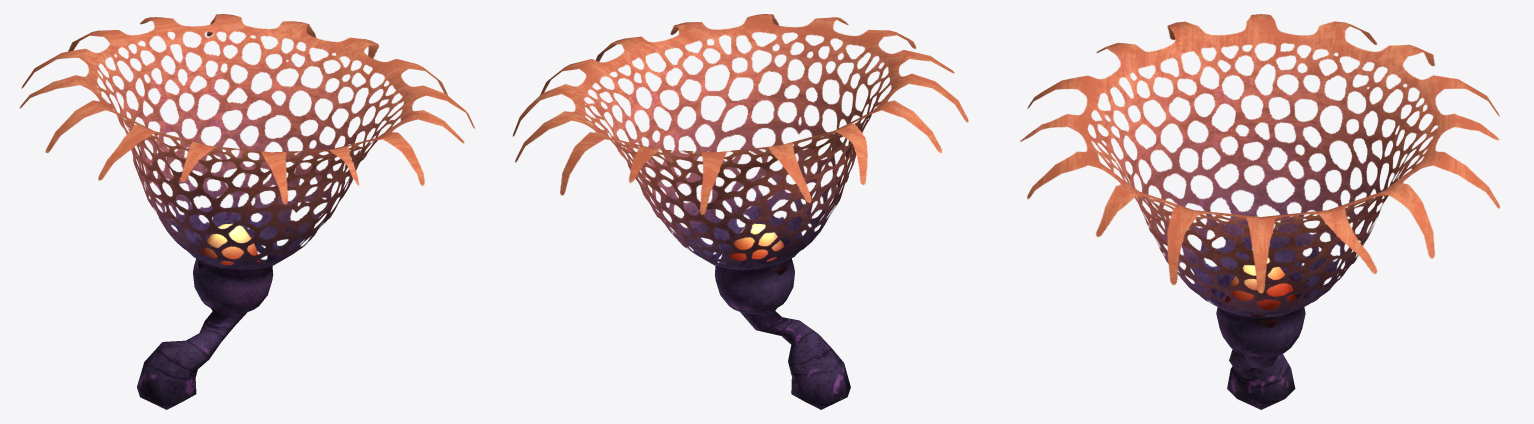
File: radiant_sieve_coral.glb
3 renders of one model, left to right at view 1: azimuth 30°, elevation 25°; view 2: azimuth 150°, elevation 25°; view 3: azimuth 270°, elevation 25°, orthographic. The views are drawn at different scales.
Visible parts, largest first — view 1: Object_2; view 2: Object_2; view 3: Object_2.
Boxes of the visible parts, <box> form: Object_2: <box>20,14,474,409</box>; Object_2: <box>512,14,968,409</box>; Object_2: <box>1020,14,1499,409</box>.
Size of the model in its own units: 0.626 by 0.4739 by 0.6294.
1 material, 1 textured.
